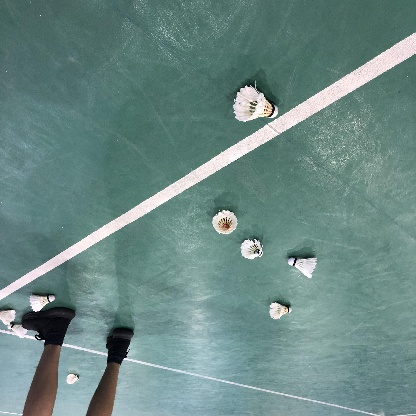ball_single: (233, 85, 278, 122), (288, 257, 317, 279), (212, 210, 238, 234), (29, 294, 55, 313), (241, 239, 263, 259), (269, 302, 292, 319), (7, 324, 28, 338), (0, 310, 16, 325), (67, 374, 79, 384)
